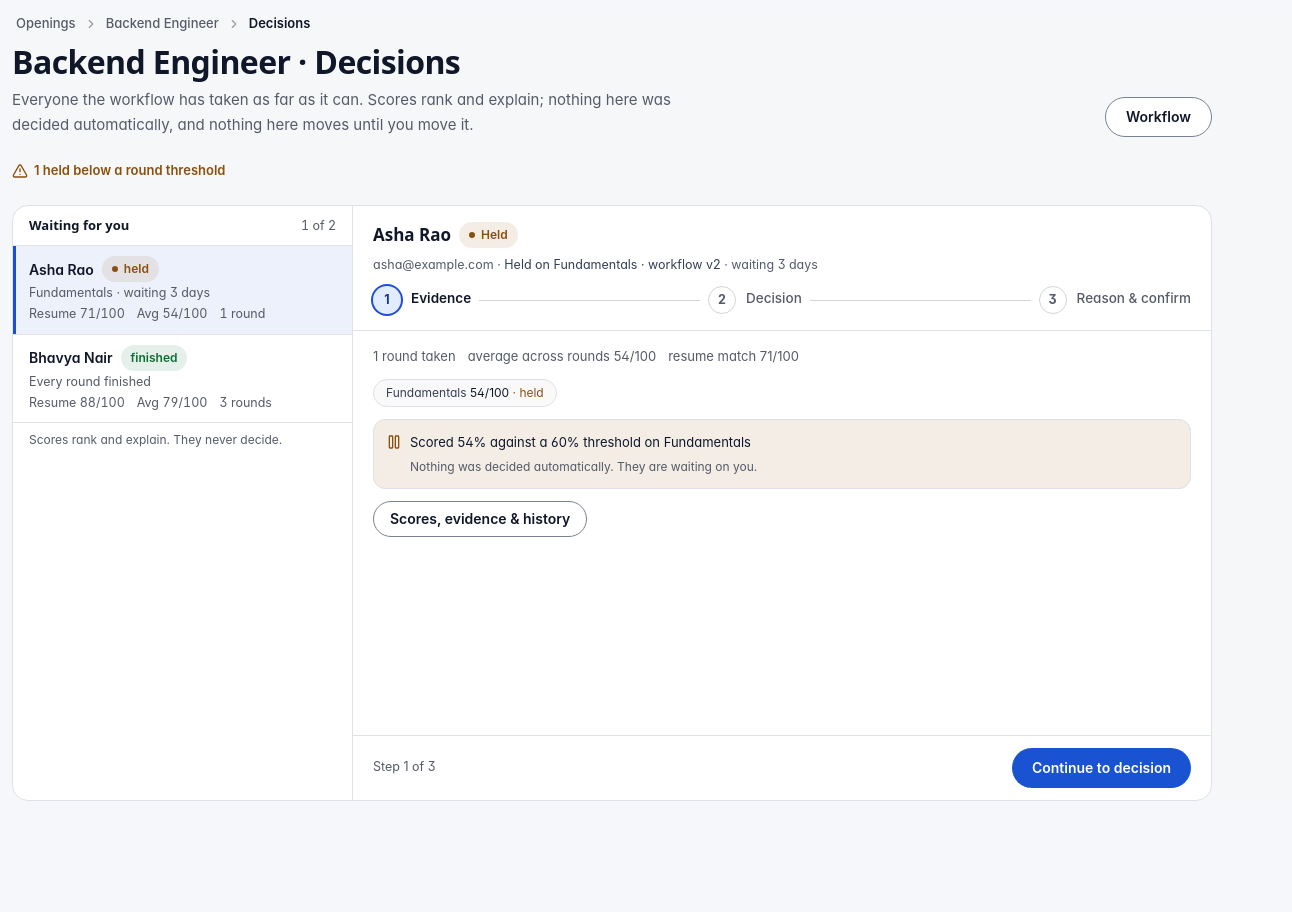
Test: DecisionQueue - the list › selecting another person swaps the panel, marks them current and updates the position
Click the button with test id "queue-row" at (71, 358), box [13,335,352,422]
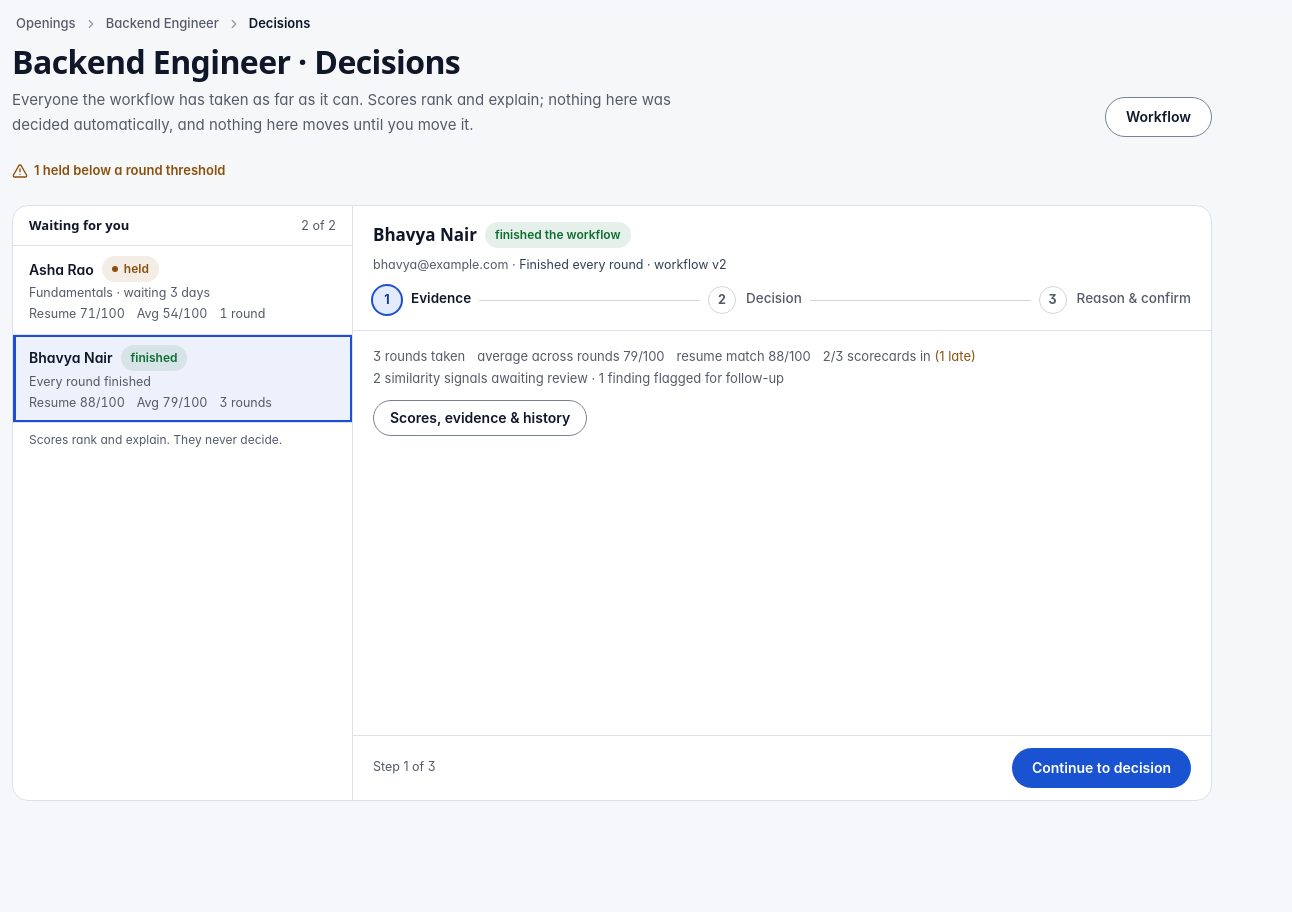
Check: the text with test id "queue-position" reads "2 of 2", box [301,216,336,235]
